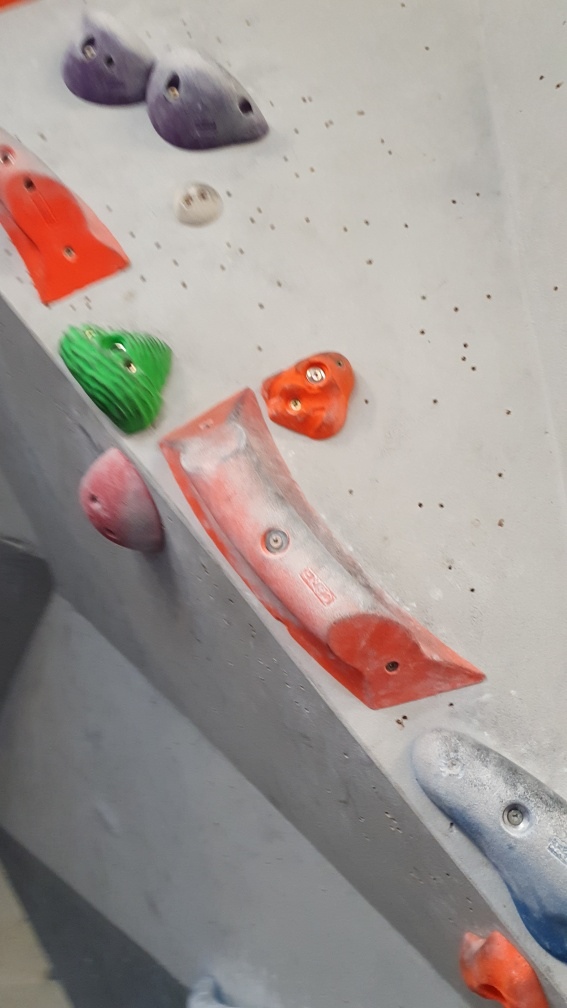Jug: (58, 317, 180, 437), (147, 42, 273, 152), (57, 10, 154, 109), (259, 348, 359, 443)
Pinch: (159, 384, 490, 712), (407, 721, 567, 956), (1, 124, 134, 314)
Sloper: (77, 445, 168, 557)
